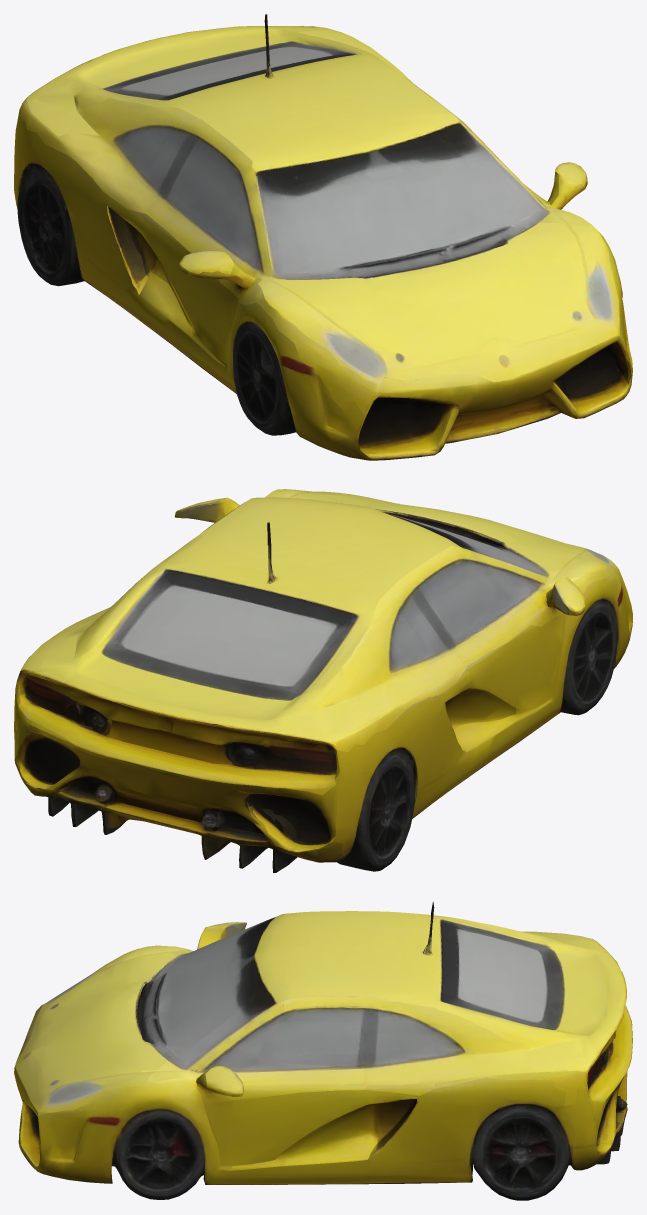
The model's file is lambo_low.glb.
3 renders of one model, top to bottom at view 1: azimuth 30°, elevation 25°; view 2: azimuth 150°, elevation 25°; view 3: azimuth 270°, elevation 25°, orthographic. The views are drawn at different scales.
Parts seen in each view (by area): view 1: world; view 2: world; view 3: world.
Boxes of the visible parts, x1,y1,x2,y2 form: world: (14,14,632,460); world: (14,489,632,872); world: (14,901,632,1200).
Size of the model in its own units: 0.6477 by 0.4101 by 0.9966.
Materials: 1 (1 with a texture image).
